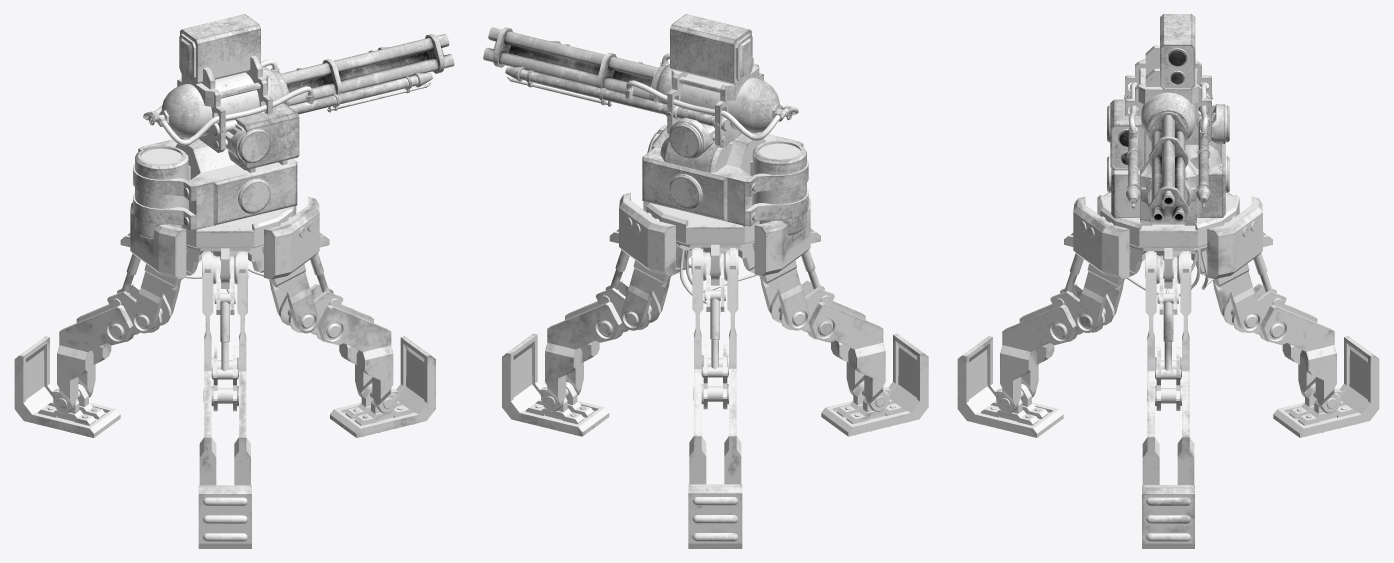
File: Gun_Turret3.fbx
3 views of the same model, side by side, from view 1: azimuth 30°, elevation 25°; view 2: azimuth 150°, elevation 25°; view 3: azimuth 270°, elevation 25° (orthographic).
Parts seen in each view (by area): view 1: S_Base, S_Head_Flamer, S_Head_Gun_Body, S_Head_Gun_Barrel; view 2: S_Base, S_Head_Flamer, S_Head_Gun_Body, S_Head_Gun_Barrel; view 3: S_Base, S_Head_Flamer, S_Head_Gun_Body, S_Head_Gun_Barrel.
Boxes of the visible parts, x1,y1,x2,y2 form: S_Base: (14,197,435,548); S_Head_Flamer: (143,14,432,163); S_Head_Gun_Body: (133,102,299,245); S_Head_Gun_Barrel: (278,34,454,106); S_Base: (502,192,928,548); S_Head_Flamer: (505,14,798,158); S_Head_Gun_Body: (642,125,808,241); S_Head_Gun_Barrel: (483,27,661,101); S_Base: (957,192,1379,548); S_Head_Flamer: (1107,14,1229,208); S_Head_Gun_Body: (1107,99,1229,225); S_Head_Gun_Barrel: (1148,112,1188,222).
Bounding box in the file's own units: 145 × 176 × 156.
